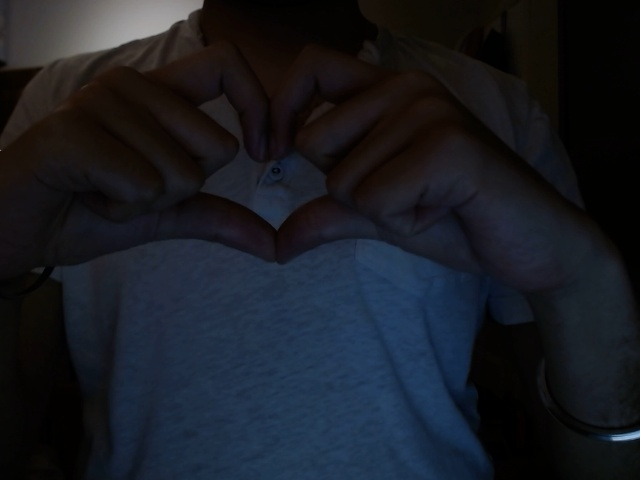Heart: (7, 53, 568, 289)
